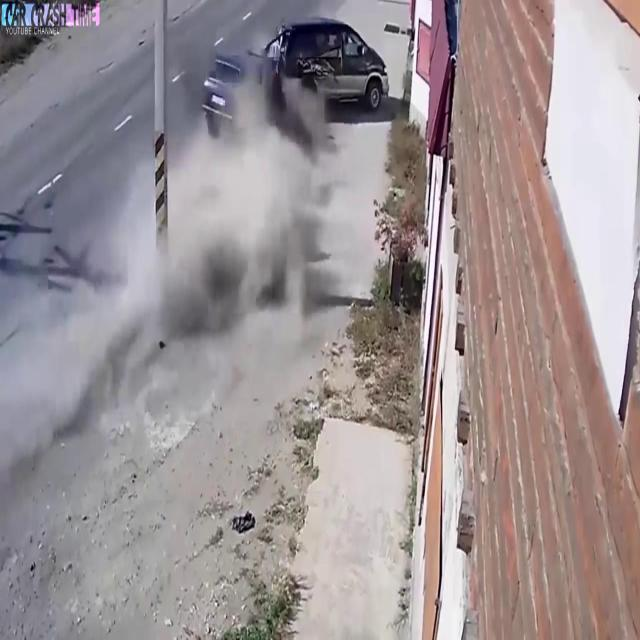accident: (178, 6, 394, 186)
